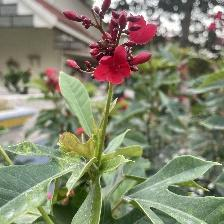jatropha: (95, 47, 133, 86)
